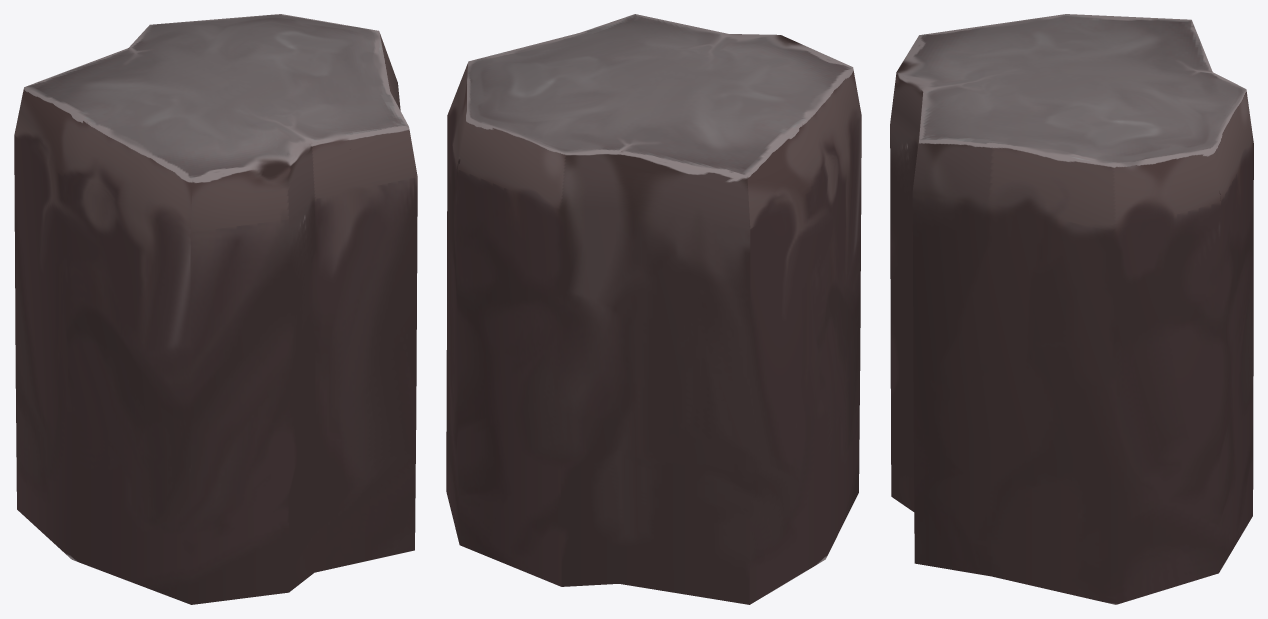
The model's file is rock_1.gltf.
3 renders of one model, left to right at view 1: azimuth 30°, elevation 25°; view 2: azimuth 150°, elevation 25°; view 3: azimuth 270°, elevation 25°, orthographic.
Visible parts, largest first — view 1: Rock1; view 2: Rock1; view 3: Rock1.
Part boxes in pixels (x1,y1,x2,y2): Rock1: (14,14,417,604); Rock1: (446,14,861,604); Rock1: (890,14,1253,604).
Size of what is drawn, in the model's own units: 1.69 by 2.01 by 1.51.
Materials: 1 (1 with a texture image).
